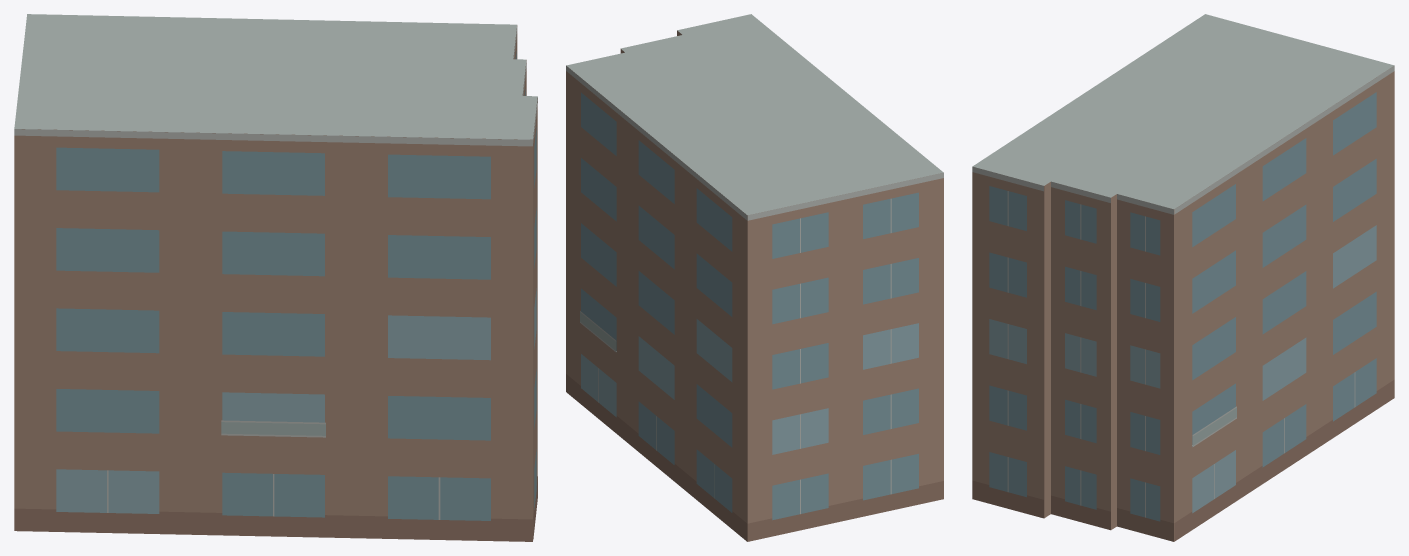
File: survey-upis-32673786.glb
The picture shows the model from 3 angles, left to right: view 1: azimuth 30°, elevation 25°; view 2: azimuth 150°, elevation 25°; view 3: azimuth 270°, elevation 25°; orthographic projection. The views are drawn at different scales.
Parts seen in each view (by area): view 1: survey-upis-32673786.tmp; view 2: survey-upis-32673786.tmp; view 3: survey-upis-32673786.tmp.
Boxes of the visible parts, x1,y1,x2,y2 form: survey-upis-32673786.tmp: (14, 14, 537, 541); survey-upis-32673786.tmp: (566, 14, 943, 541); survey-upis-32673786.tmp: (972, 14, 1394, 541).
Bounding box in the file's own units: 18.47 × 14.65 × 16.87.
